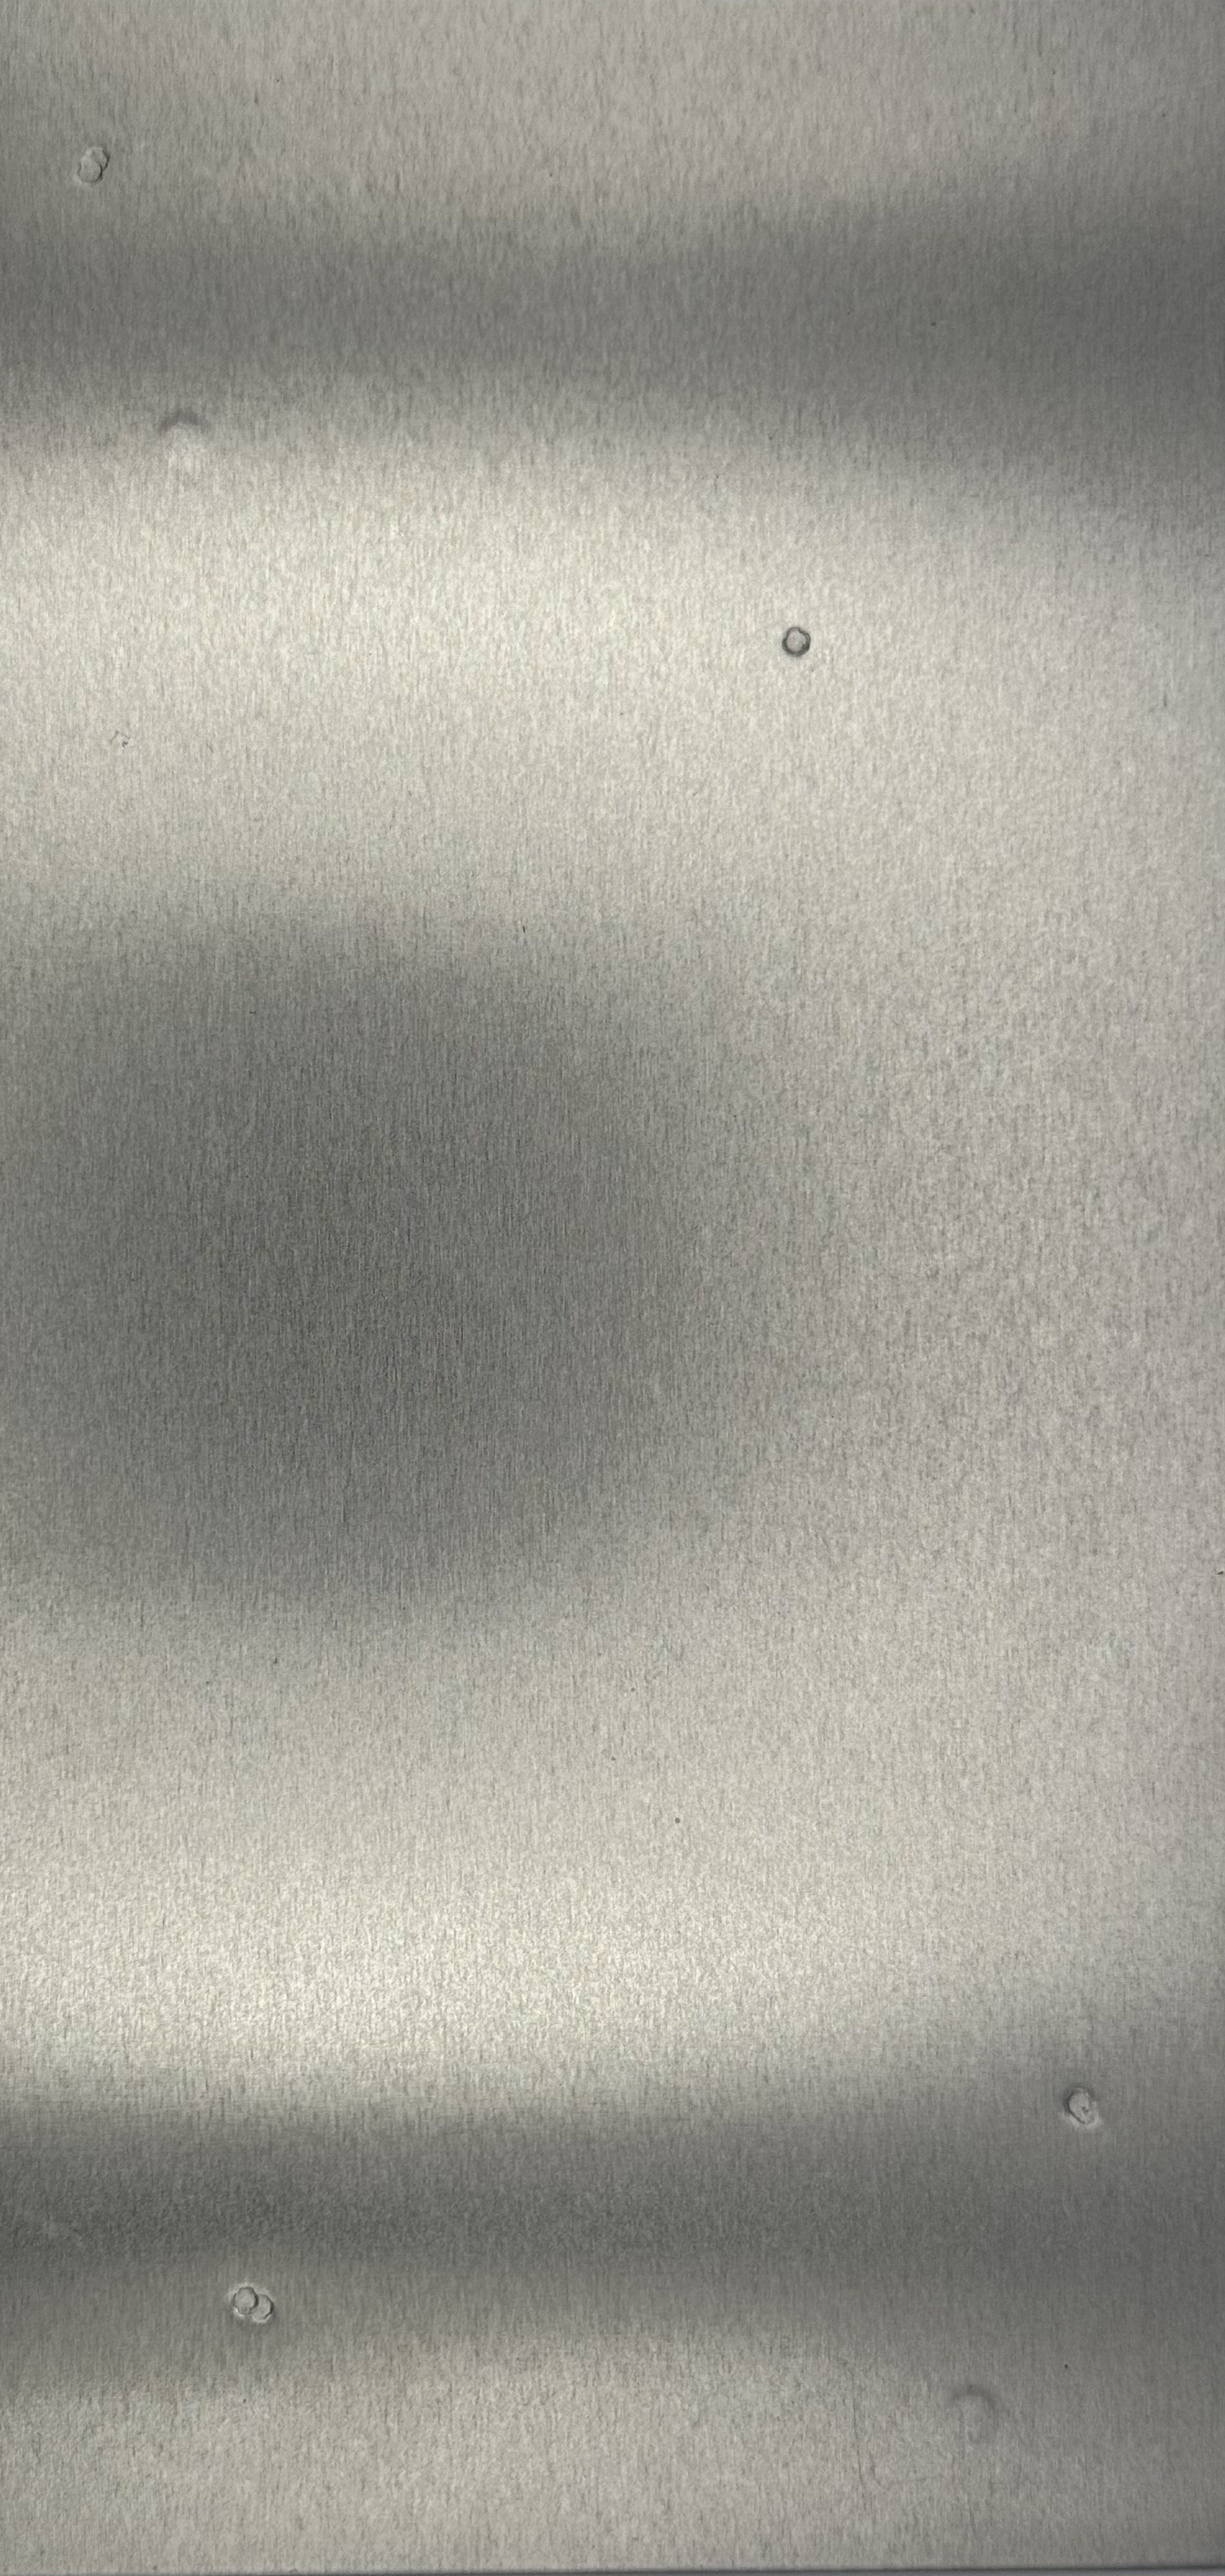Delle: (135, 404, 253, 504), (212, 2267, 294, 2339), (934, 2382, 1018, 2451), (62, 131, 133, 209), (1046, 2077, 1128, 2137), (773, 623, 824, 665)
